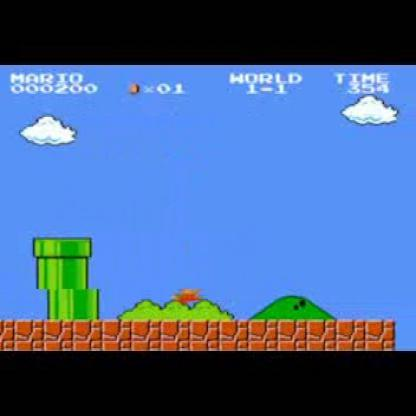Hoyo: (390, 318, 415, 355)
